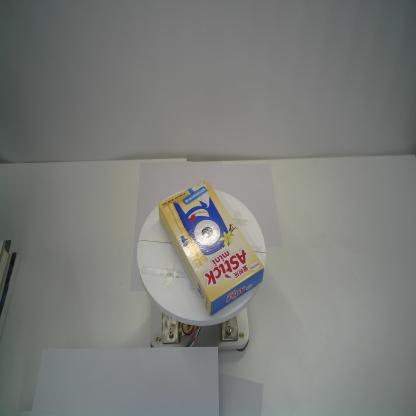Dessert: (157, 179, 264, 318)
